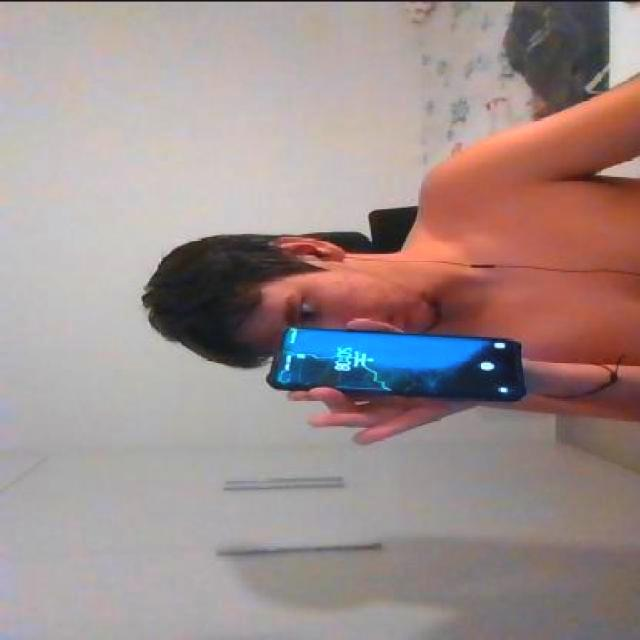phone: (272, 322, 530, 398)
